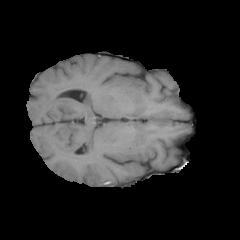glioma: (103, 116, 163, 186)
